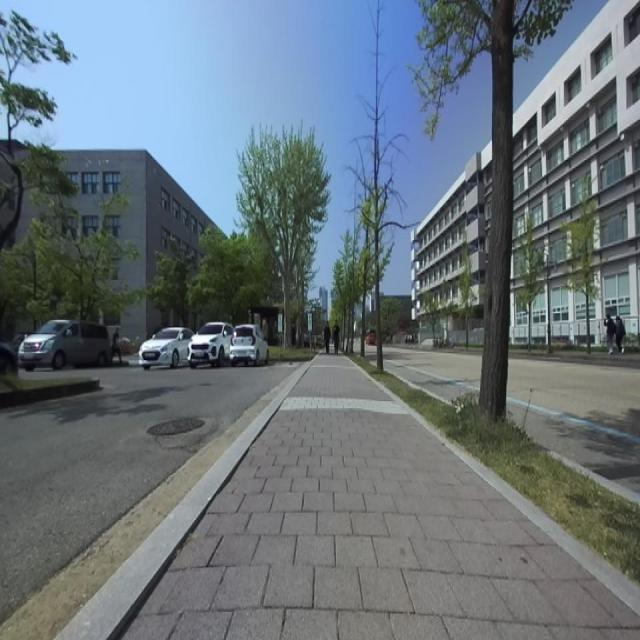sidewalk: (124, 356, 640, 639), (124, 408, 640, 639), (276, 396, 413, 417)
